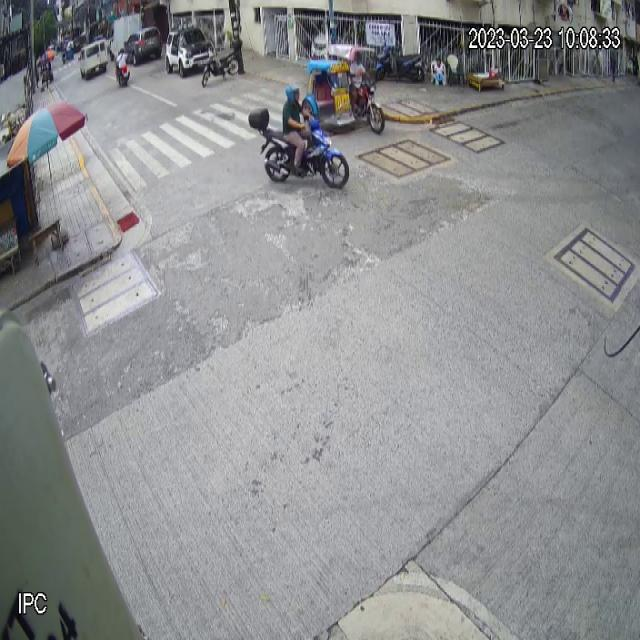Motorcycle: (248, 107, 350, 190), (201, 38, 243, 88)
Tricycle: (302, 44, 385, 135)
